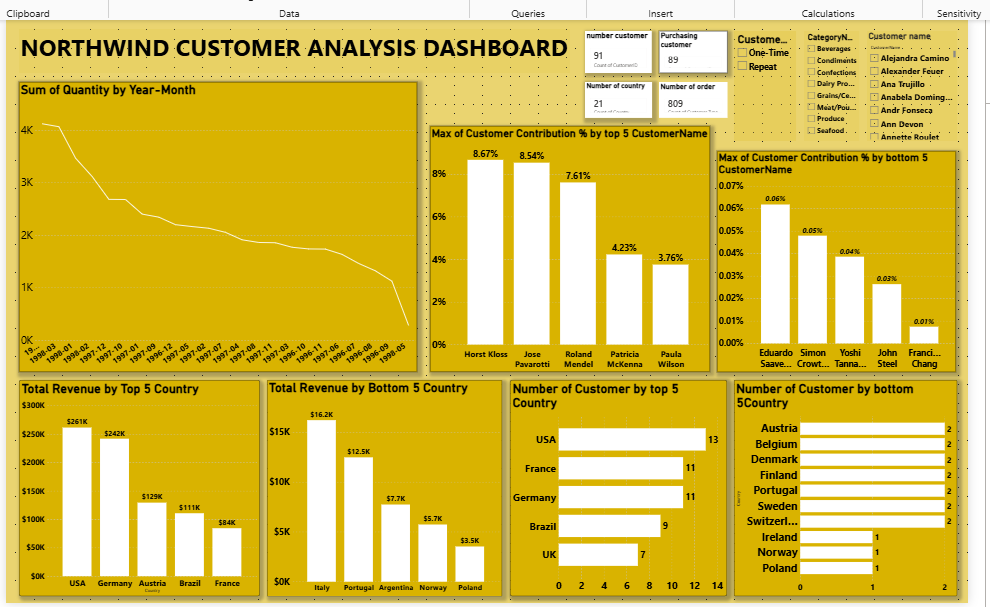

Layout of this report page (visuals, bound fields, positions):
{"tool":"powerbi","page":{"name":"Northwind Customer Analysis Dashboard","canvas":[3300,2000],"ordinal":17},"visuals":[{"type":"cardVisual","title":"number customer","fields":{"Data":["CountNonNull(Customers.CustomerID)"]},"box":[1985.1,37.7,229.3,144],"z":0},{"type":"cardVisual","title":"Number of country","fields":{"Data":["Count(Customers.Country)"]},"box":[1985.1,212.6,229.7,123.4],"z":1000},{"type":"clusteredColumnChart","title":"Total Revenue by Top 5 Country","fields":{"Category":["Customers.Country"],"Y":["Sum(OrderDetails.Revenue)"]},"box":[44.6,1234.3,826.3,740.6],"z":2000},{"type":"columnChart","title":"Total Revenue by Bottom 5 Country","fields":{"Category":["Customers.Country"],"Y":["Sum(OrderDetails.Revenue)"]},"box":[894.9,1234.3,805.7,740.6],"z":3000},{"type":"slicer","fields":{"Values":["Orders.Customer Type"]},"box":[2496,37.7,212.6,377.1],"z":4000},{"type":"barChart","title":"Number of  Customer by top 5  Country","fields":{"Category":["Customers.Country"],"Y":["CountNonNull(Customers.CustomerName)"]},"box":[1728,1234.3,744,740.6],"z":5000},{"type":"barChart","title":"Number of Customer by bottom 5Country","fields":{"Category":["Customers.Country"],"Y":["CountNonNull(Customers.CustomerName)"]},"box":[2496,1234.3,764.6,740.6],"z":6000},{"type":"cardVisual","title":"Purchasing customer","fields":{"Data":["Count(Orders.CustomerID)"]},"box":[2238.9,37.7,234.7,144],"z":7000},{"type":"lineChart","fields":{"Category":["Orders.Year-Month"],"Y":["Sum(OrderDetails.Quantity)"]},"box":[44.6,212.6,1364.6,994.3],"z":8000},{"type":"cardVisual","title":"Number of order","fields":{"Data":["CountNonNull(Orders.Customer Type)"]},"box":[2238.9,212.6,234.7,122.7],"z":9000},{"type":"slicer","title":"Customer name","fields":{"Values":["Customers.CustomerName"]},"box":[2952,37.7,308.6,377.1],"z":10000},{"type":"slicer","fields":{"Values":["Categories.CategoryName"]},"box":[2736,37.7,188.6,377.1],"z":11000},{"type":"columnChart","title":"Max of Customer Contribution % by top 5 CustomerName","fields":{"Category":["Customers.CustomerName"],"Y":["Max(OrderDetails.Customer Contribution %)"]},"box":[1453.7,363.4,960,843.4],"z":12000},{"type":"columnChart","title":"Max of Customer Contribution % by bottom 5 CustomerName","fields":{"Category":["Customers.CustomerName"],"Y":["Max(OrderDetails.Customer Contribution %)"]},"box":[2437.7,449.1,819.4,757.7],"z":13000},{"type":"textbox","box":[44.6,30.9,1889.1,150.9],"z":14000}]}

Visuals, with their boxes on the page's 3300x2000 design canvas (x1, y1, x2, y2). These are canvas units, not pixel positions in the 990x607 screenshot, which may show the page scaled, cropped or inside an application window:
"number customer" cardVisual: locate(1985, 38, 2214, 182)
"Number of country" cardVisual: locate(1985, 213, 2215, 336)
"Total Revenue by Top 5 Country" clusteredColumnChart: locate(45, 1234, 871, 1975)
"Total Revenue by Bottom 5 Country" columnChart: locate(895, 1234, 1701, 1975)
slicer - Orders.Customer Type: locate(2496, 38, 2709, 415)
"Number of  Customer by top 5  Country" barChart: locate(1728, 1234, 2472, 1975)
"Number of Customer by bottom 5Country" barChart: locate(2496, 1234, 3261, 1975)
"Purchasing customer" cardVisual: locate(2239, 38, 2474, 182)
lineChart - Orders.Year-Month x Sum(OrderDetails.Quantity): locate(45, 213, 1409, 1207)
"Number of order" cardVisual: locate(2239, 213, 2474, 335)
"Customer name" slicer: locate(2952, 38, 3261, 415)
slicer - Categories.CategoryName: locate(2736, 38, 2925, 415)
"Max of Customer Contribution % by top 5 CustomerName" columnChart: locate(1454, 363, 2414, 1207)
"Max of Customer Contribution % by bottom 5 CustomerName" columnChart: locate(2438, 449, 3257, 1207)
textbox: locate(45, 31, 1934, 182)
